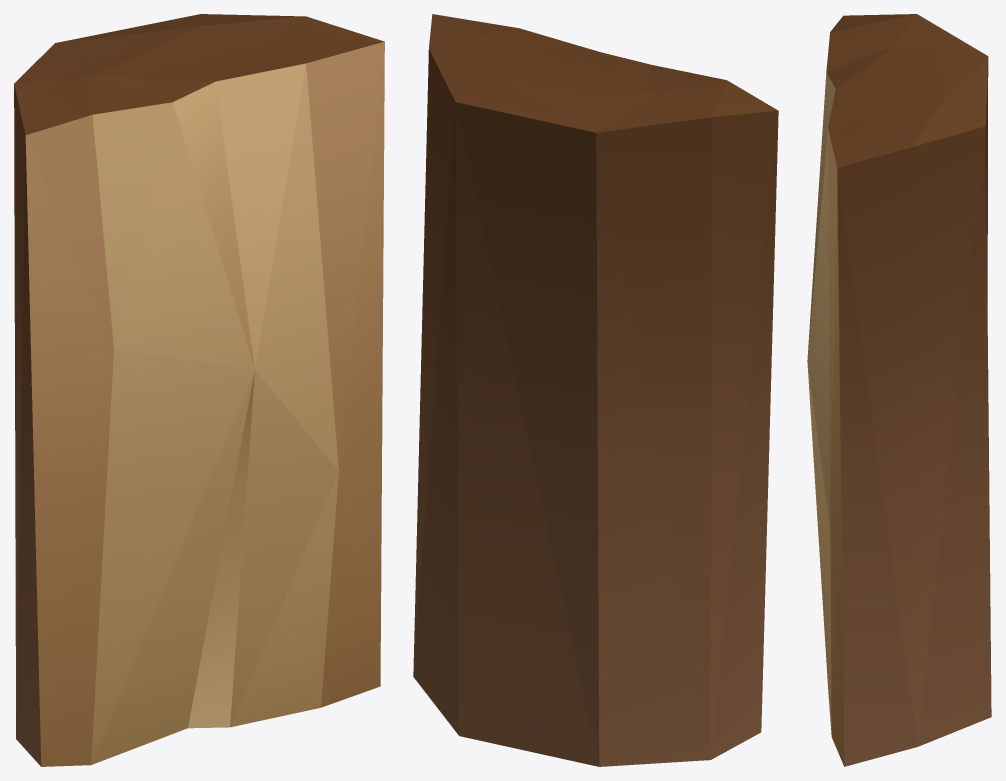
File: Log_Half.gltf
3 renders of one model, left to right at view 1: azimuth 30°, elevation 25°; view 2: azimuth 150°, elevation 25°; view 3: azimuth 270°, elevation 25°, orthographic. The views are drawn at different scales.
Visible parts, largest first — view 1: Log_Half; view 2: Log_Half; view 3: Log_Half.
Boxes of the visible parts, bbox=[...] form: Log_Half: bbox=[14, 14, 384, 766]; Log_Half: bbox=[413, 14, 778, 766]; Log_Half: bbox=[807, 14, 991, 766].
Size of the model in its own units: 0.3706 by 0.6526 by 0.1794.
1 material, 1 textured.
